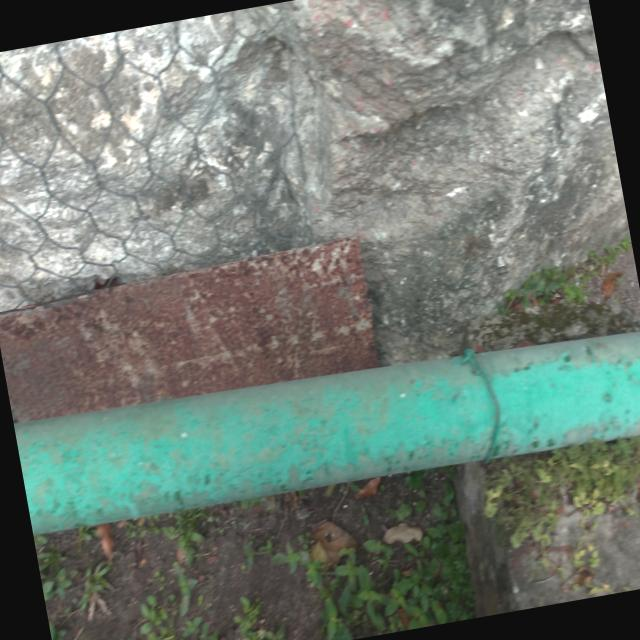gas: (13, 306, 640, 548)
